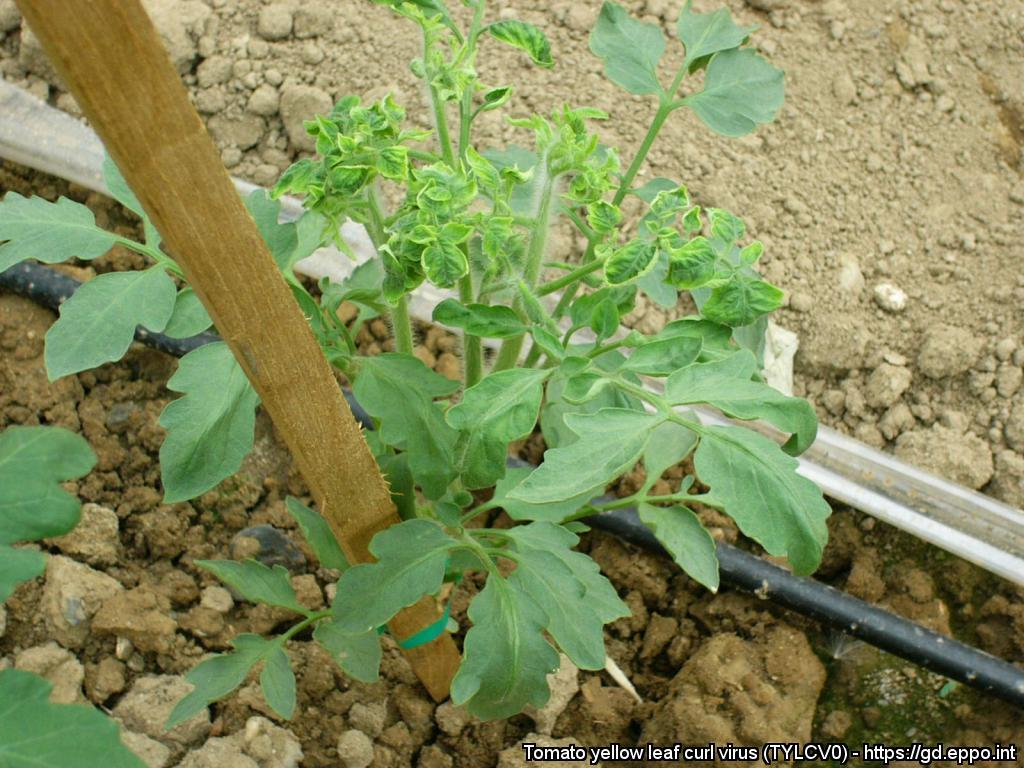Tomato leaf bacterial spot: (695, 422, 826, 587), (522, 385, 691, 498), (344, 341, 466, 488), (447, 567, 560, 724), (151, 337, 253, 499), (41, 258, 165, 383), (328, 517, 452, 640), (507, 547, 621, 670), (6, 176, 126, 281), (588, 1, 682, 114), (686, 46, 788, 142), (635, 496, 723, 590), (193, 549, 313, 613), (616, 331, 704, 381)
